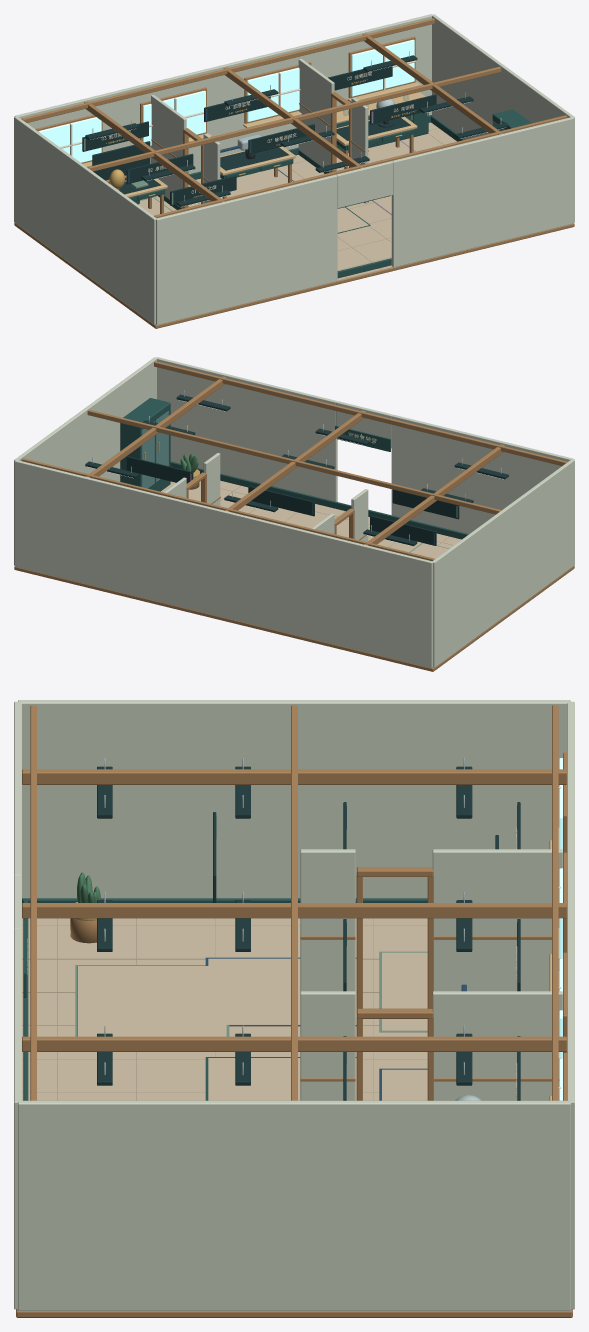
File: electricity-gallery.glb
3 views of the same model, one above another, from view 1: azimuth 30°, elevation 25°; view 2: azimuth 150°, elevation 25°; view 3: azimuth 270°, elevation 25° (orthographic). The views are drawn at different scales.
Size of the model in its own units: 24.2 by 6.02 by 14.2.
